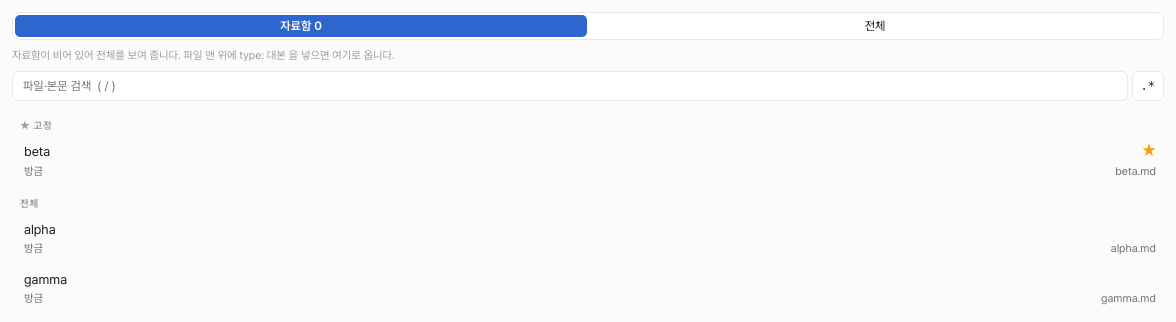
FlatList 검색창 › 정규식 거부 시 안내 문구를 보여 준다
This screenshot has width=1176, height=322.
Click the button ".*" at coordinates (1148, 86), box [1132,71,1164,101]
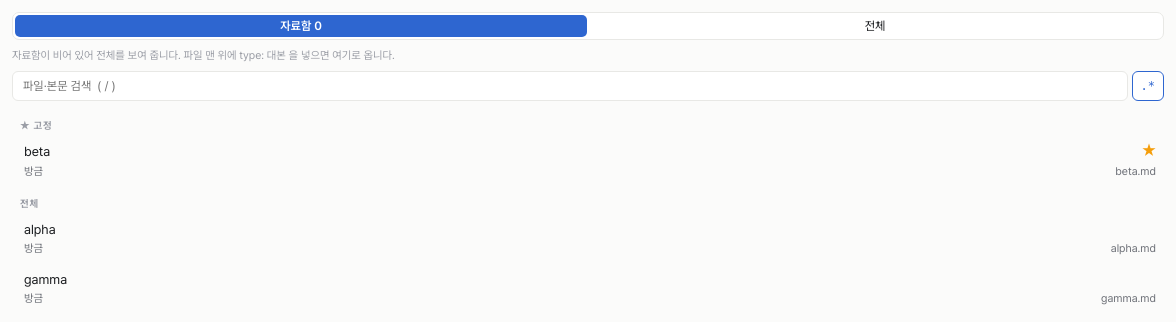
Type "(a+)+" into the field with placeholder "파일·본문 검색 ( / )" at coordinates (570, 86), box [12,71,1128,101]
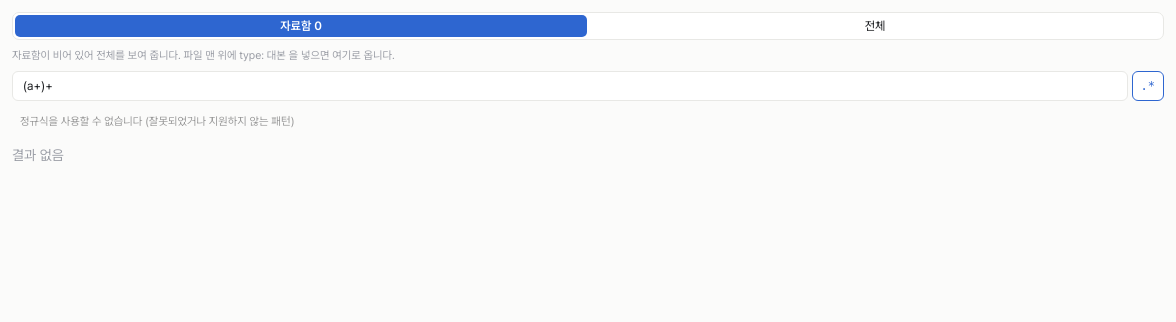
Now the text "정규식을 사용할 수 없습니다 (잘못되었거나 지원하지 않는 패턴)" is shown, box [20,115,295,128]
